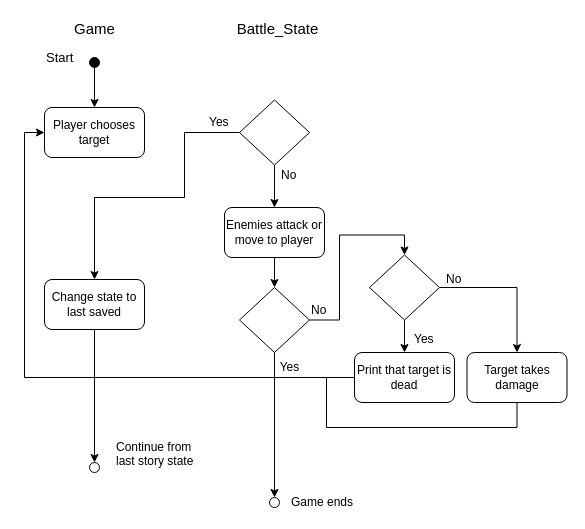
Some shapes in this 585 by 529 pixel diagram are drawn without their labels. Each missing label, with the centre of its shape:
All targets dead?: pixel 274 132
Choosed target dead?: pixel 404 287
Player HP < 0?: pixel 274 319
